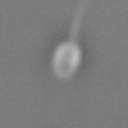normal: (66, 1, 87, 43)
